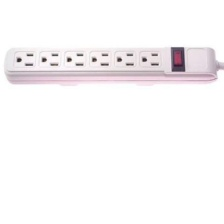three_eye_plug: (3, 45, 220, 87)
